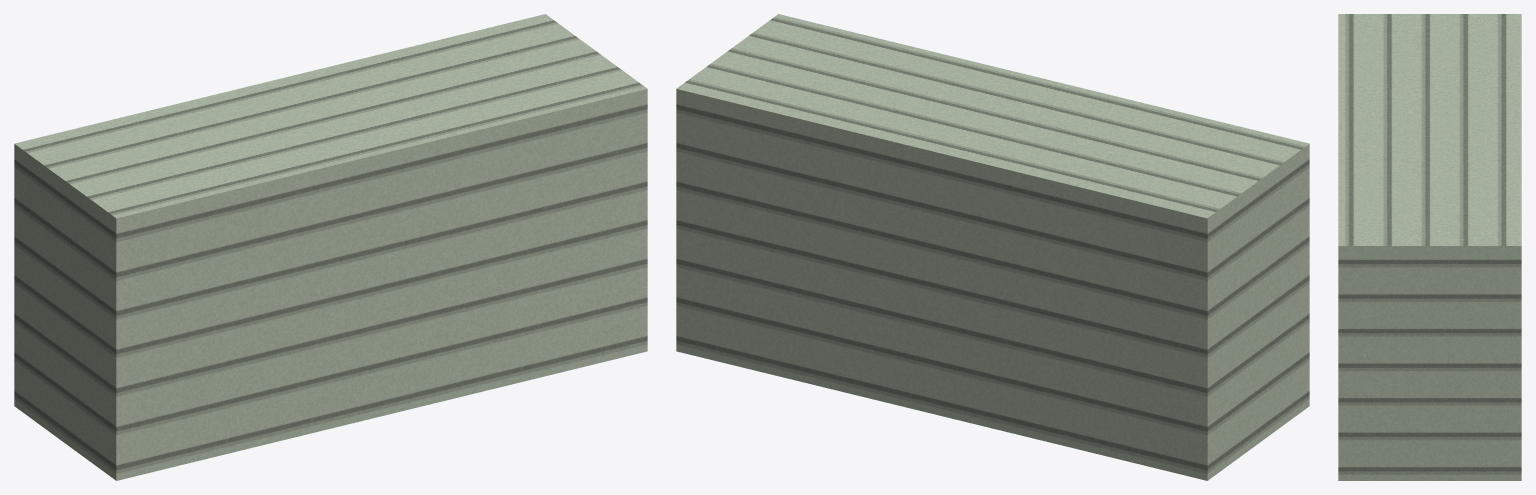
Rendered from workbench.glb.
The picture shows the model from 3 angles, left to right: view 1: azimuth 30°, elevation 25°; view 2: azimuth 150°, elevation 25°; view 3: azimuth 270°, elevation 25°; orthographic projection. The views are drawn at different scales.
Parts seen in each view (by area): view 1: workbench-col; view 2: workbench-col; view 3: workbench-col.
Part boxes in pixels (x1,y1,x2,y2): workbench-col: (14, 14, 647, 480); workbench-col: (676, 14, 1309, 480); workbench-col: (1338, 14, 1521, 480).
Bounding box in the file's own units: 1.8 × 0.85 × 0.6.
Materials: 1 (1 with a texture image).
